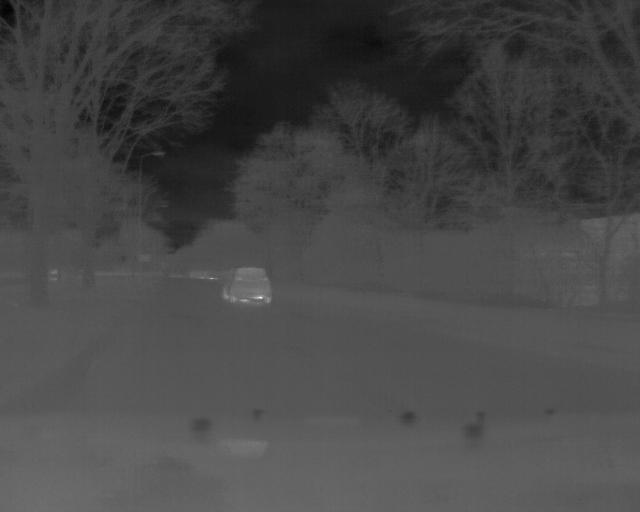car: (221, 263, 278, 306)
